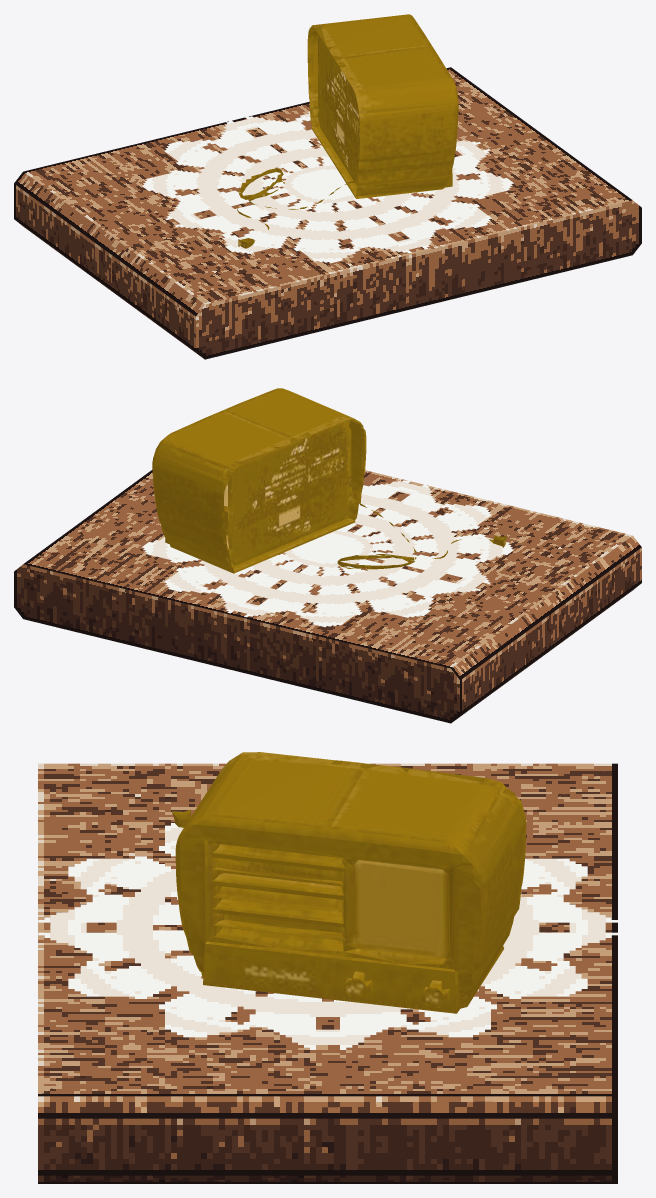
Rendered from valve.glb.
The picture shows the model from 3 angles, top to bottom: view 1: azimuth 30°, elevation 25°; view 2: azimuth 150°, elevation 25°; view 3: azimuth 270°, elevation 25°; orthographic projection. The views are drawn at different scales.
Visible parts, largest first — view 1: base, doily, model_radio; view 2: base, model_radio, doily; view 3: base, model_radio, doily.
Part boxes in pixels (x1,y1,x2,y2): base: (14,67,641,359); doily: (142,111,513,263); model_radio: (236,14,458,248); base: (14,469,641,723); model_radio: (152,388,506,573); doily: (142,479,513,627); base: (38,763,617,1183); model_radio: (172,752,526,1013); doily: (38,823,617,1049).
Bounding box in the file's own units: 34 × 12.33 × 26.
Materials: 3 (3 with a texture image).
